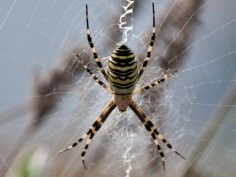spider: (47, 1, 194, 174)
